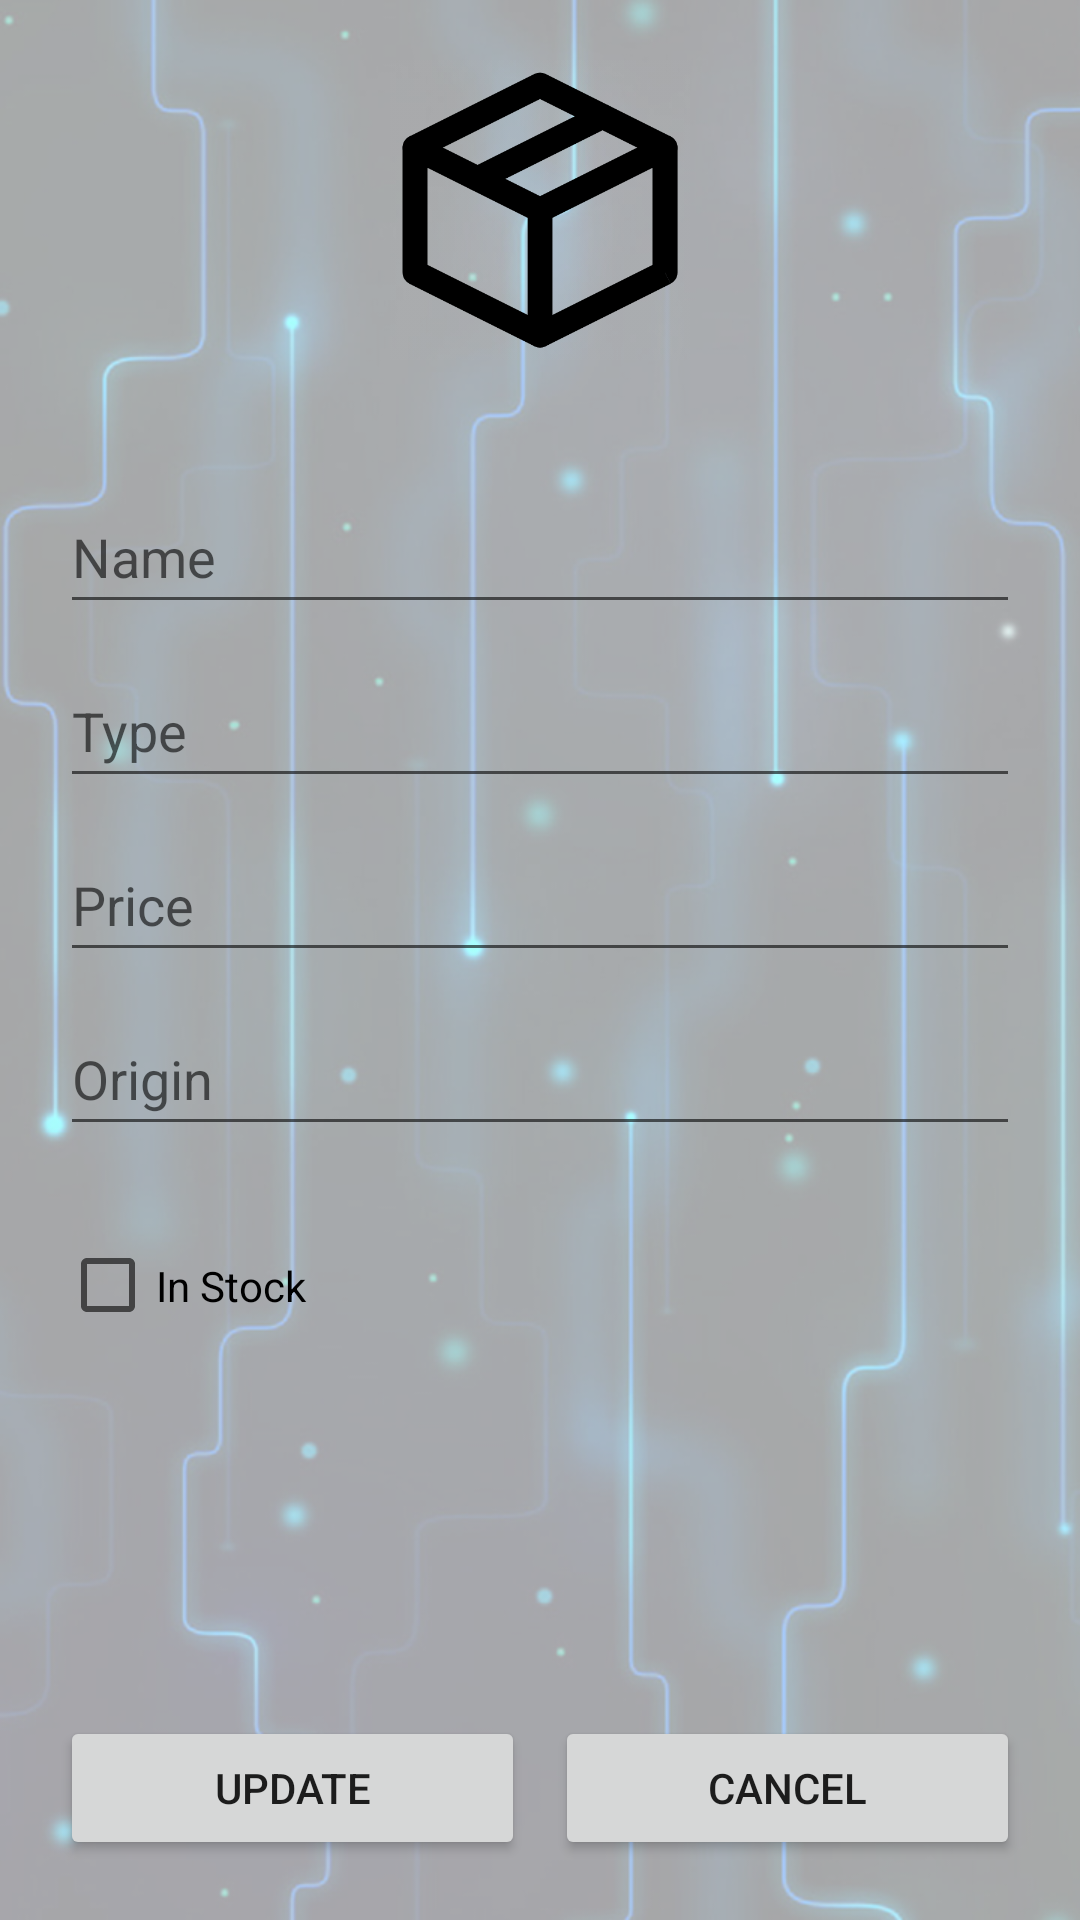

Point at icon controls on the screen. Image size 1080px x 1920px, points as (x=x, y=y).
product: (x=540, y=210)
